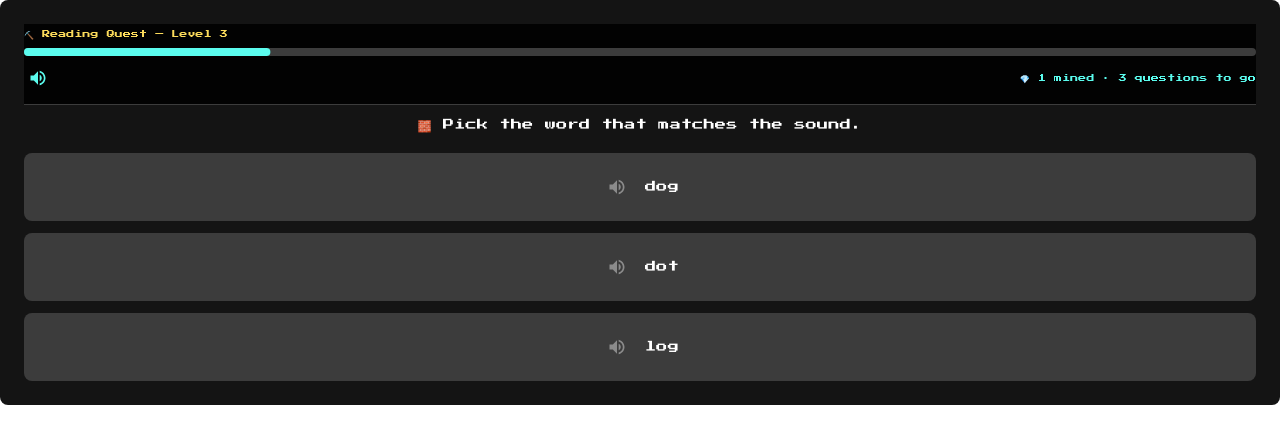
Test: QuestQuestionScreen — select-then-confirm answer cards › first tap on a card selects it and plays its word, but does NOT submit
The width and height of the screenshot is (1280, 440).
Click the button "dog" at point(662, 186), box [24, 153, 1256, 221]
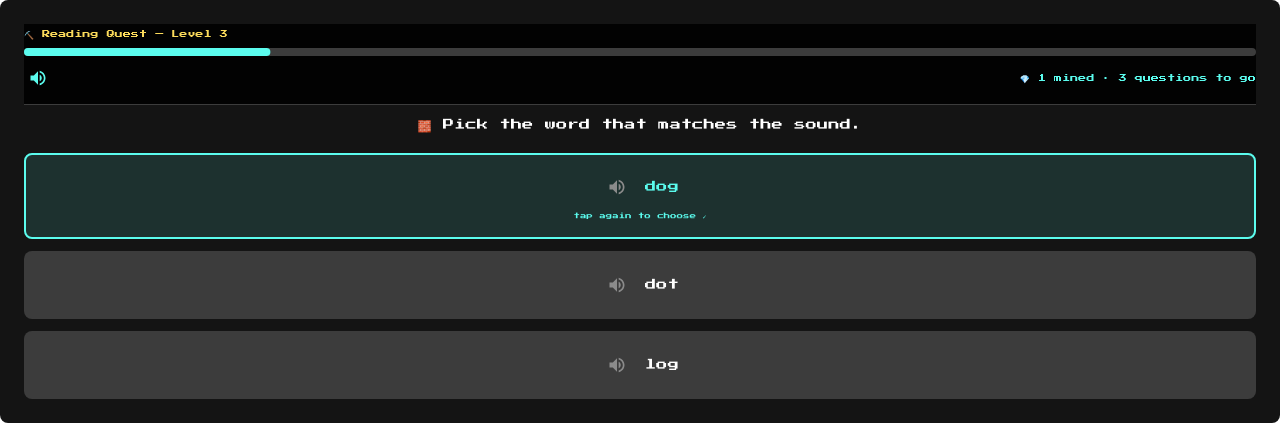
Check: the text "tap again to choose ✓" is shown, box [574, 213, 706, 219]
